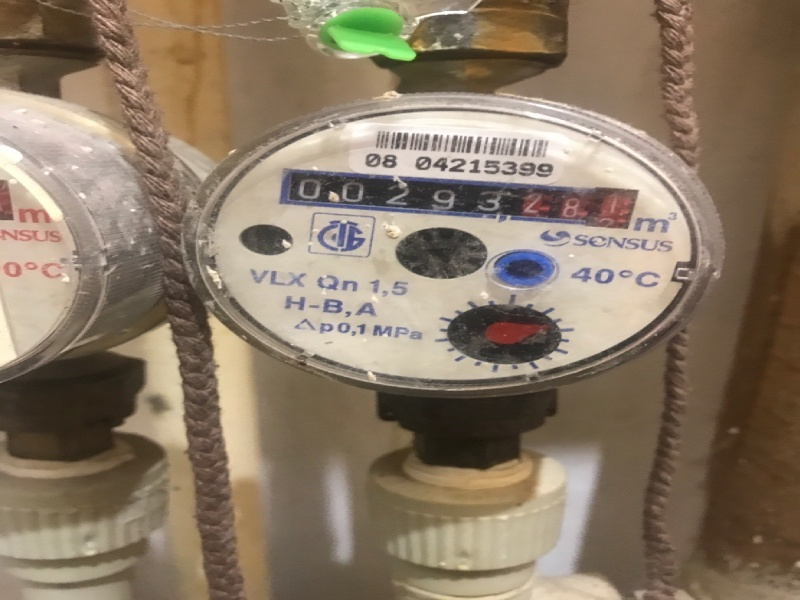meter: (274, 176, 642, 223)
